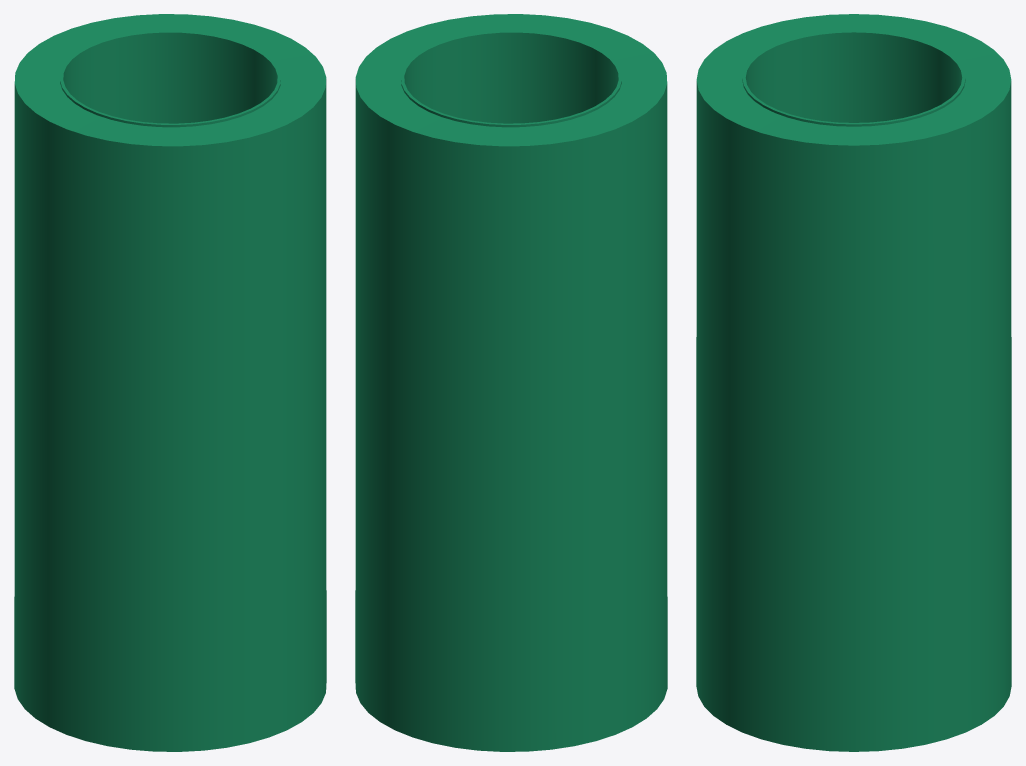
The model's file is base corte.fbx.
3 views of the same model, side by side, from view 1: azimuth 30°, elevation 25°; view 2: azimuth 150°, elevation 25°; view 3: azimuth 270°, elevation 25° (orthographic).
Parts seen in each view (by area): view 1: Torus001; view 2: Torus001; view 3: Torus001.
Part boxes in pixels (left/top/right/bottom): Torus001: left=14, top=14, right=326, bottom=751; Torus001: left=355, top=14, right=667, bottom=751; Torus001: left=696, top=14, right=1011, bottom=751.
Size of the model in its own units: 1802 by 3875 by 1820.
